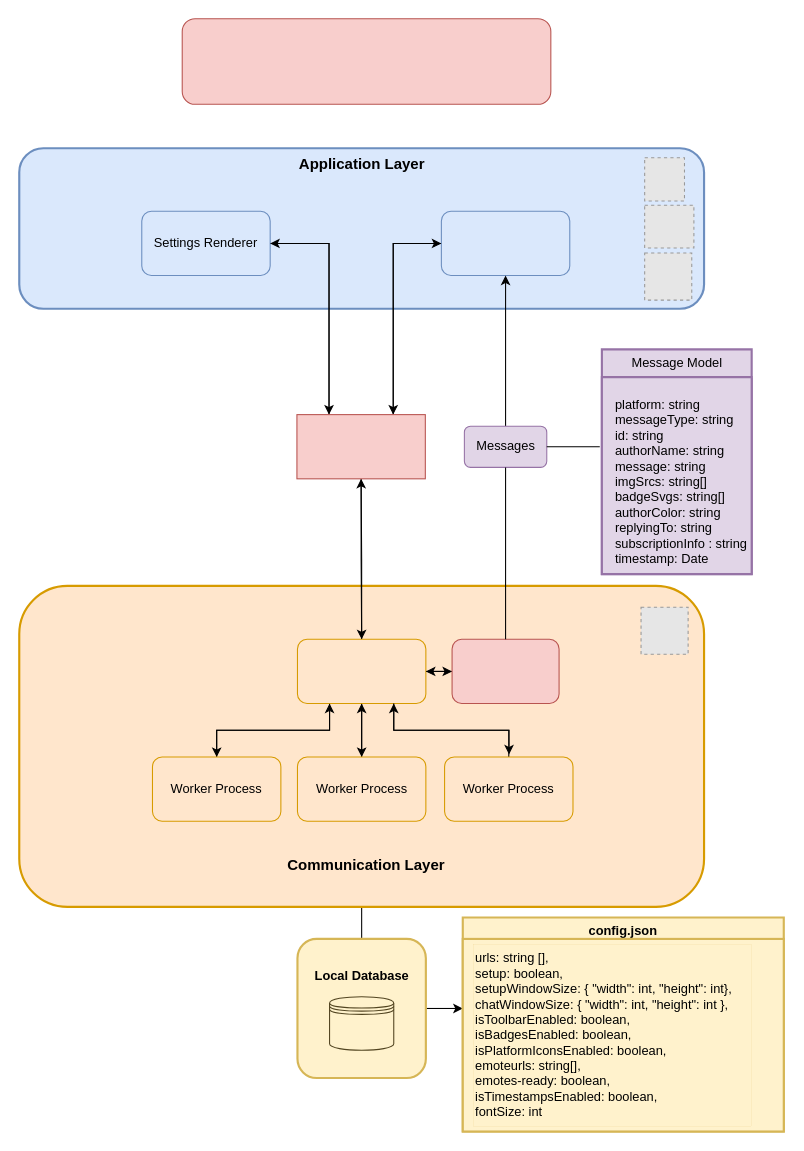
Some shapes in this 804 by 1151 pixel diagram are drawn without their labels. Grey dashed boxes stand in for pictures. Each missing label, with the centre of its shape:
Chat Renderer: (x=505, y=243)
Context Bridge: (x=360, y=446)
Main Process: (x=361, y=671)
Multistream Chat Fuser Architecture: (x=366, y=61)
Websocket: (x=505, y=671)
